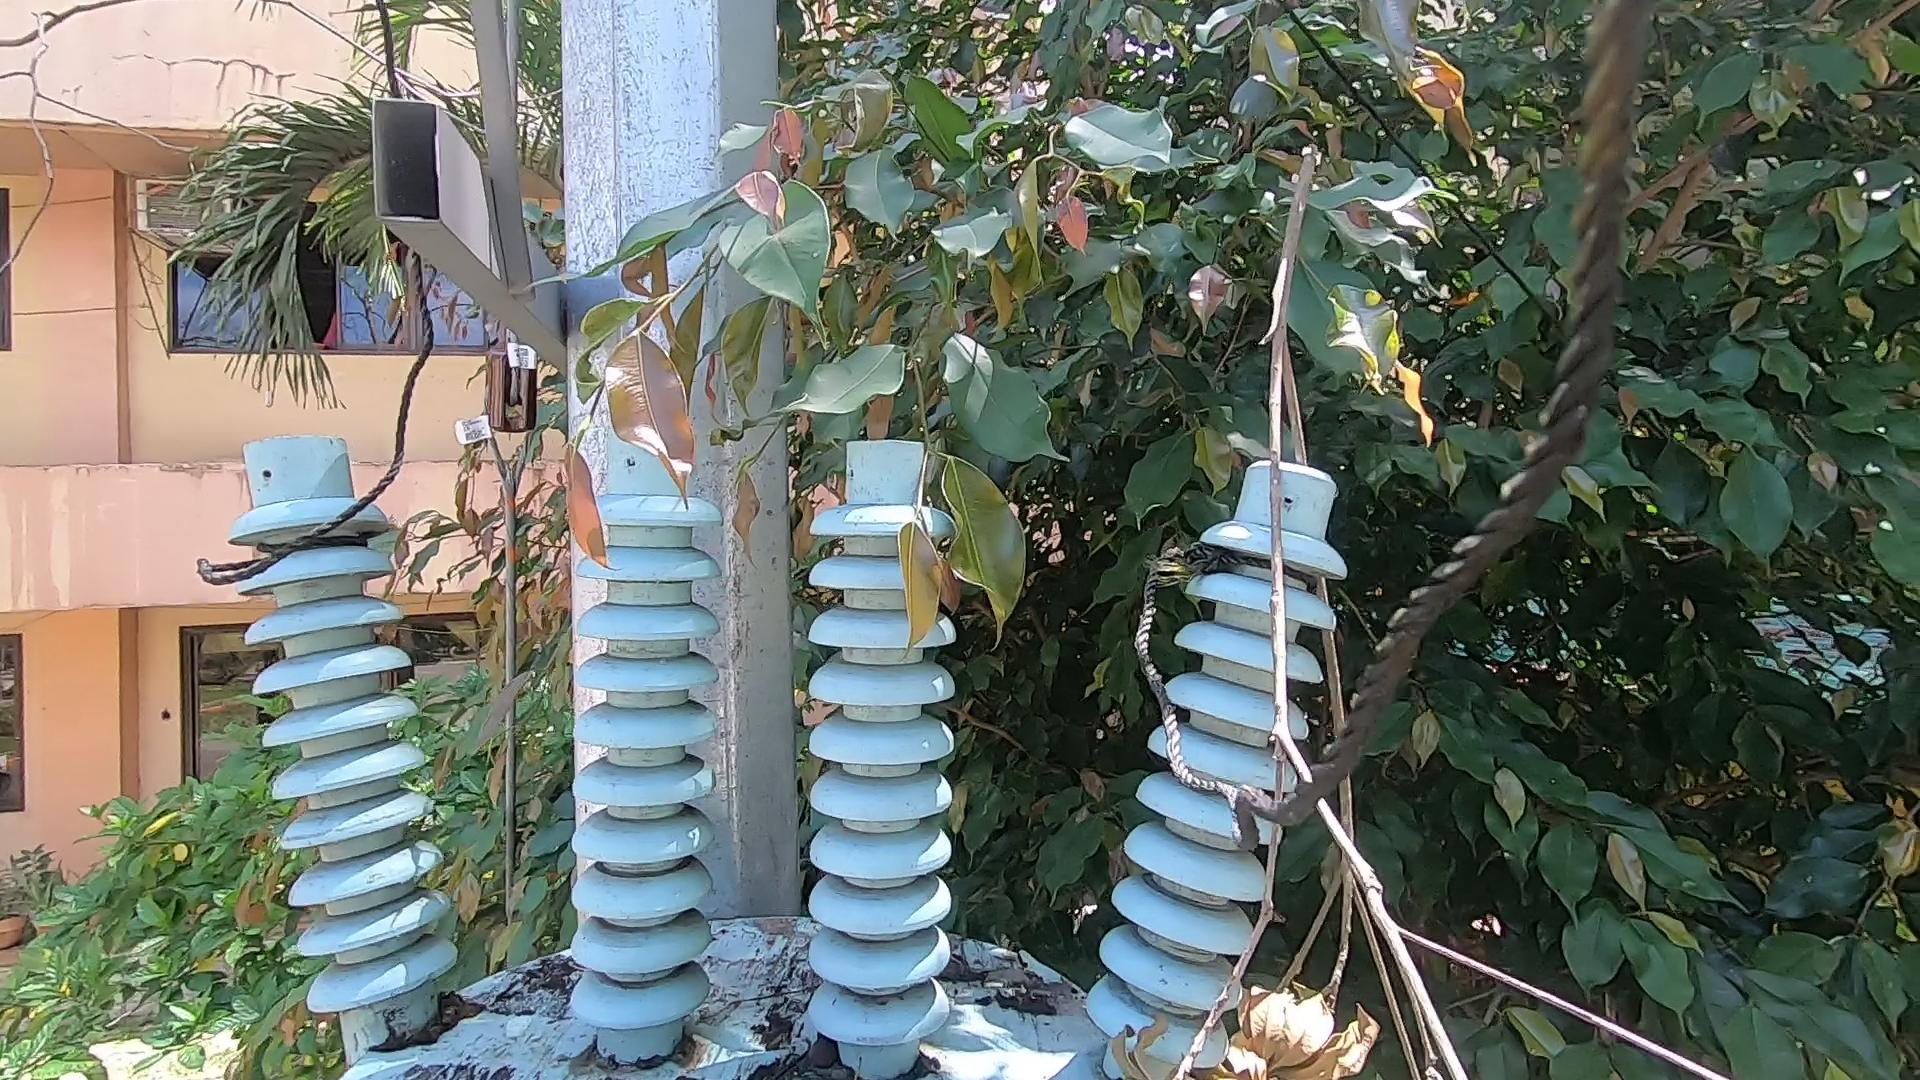branch with leaves: (1112, 88, 1731, 1080)
tree branch: (720, 980, 806, 1005)
